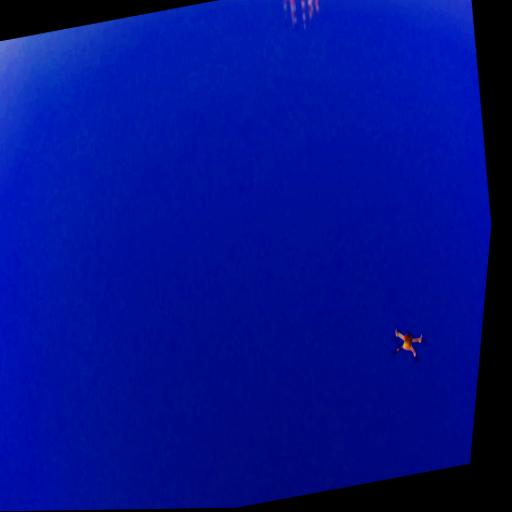drones: (386, 317, 435, 367)
